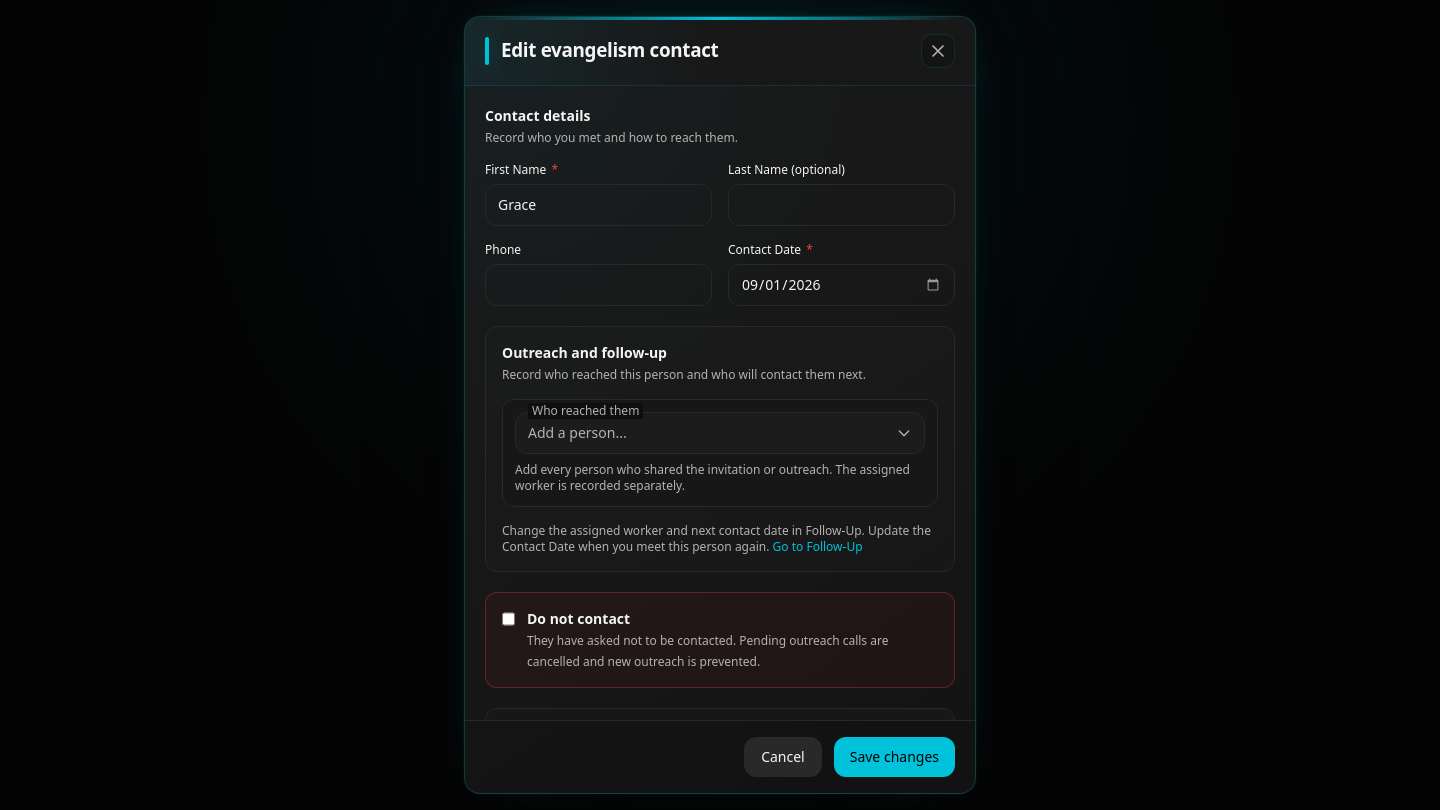
Test: Evangelism contact capture › keeps a failed save open and displays the error
Click the button "Save changes".
click(894, 757)  # box [834,737,955,777]
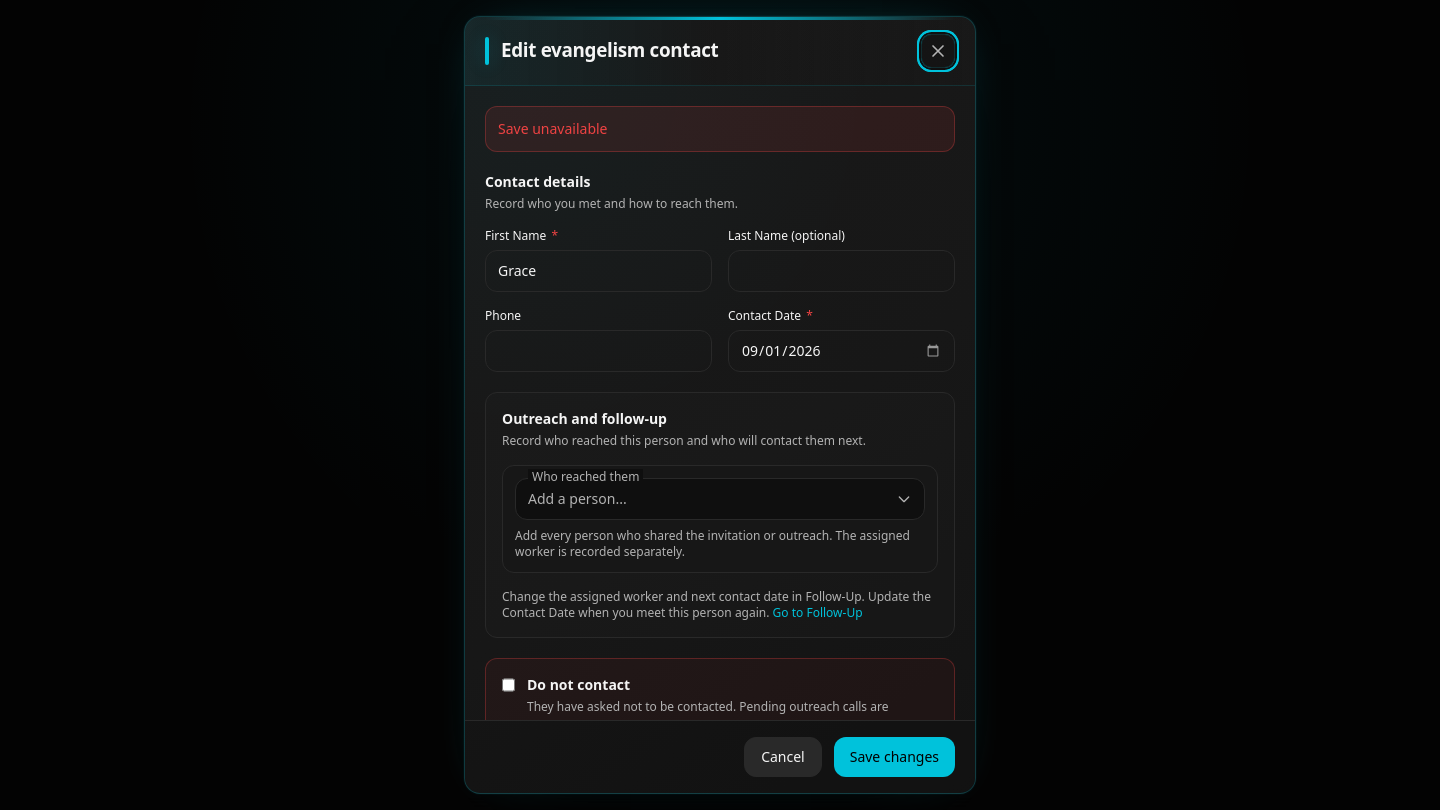
Expected: the message reads "Save unavailable", [498,119,608,138]
